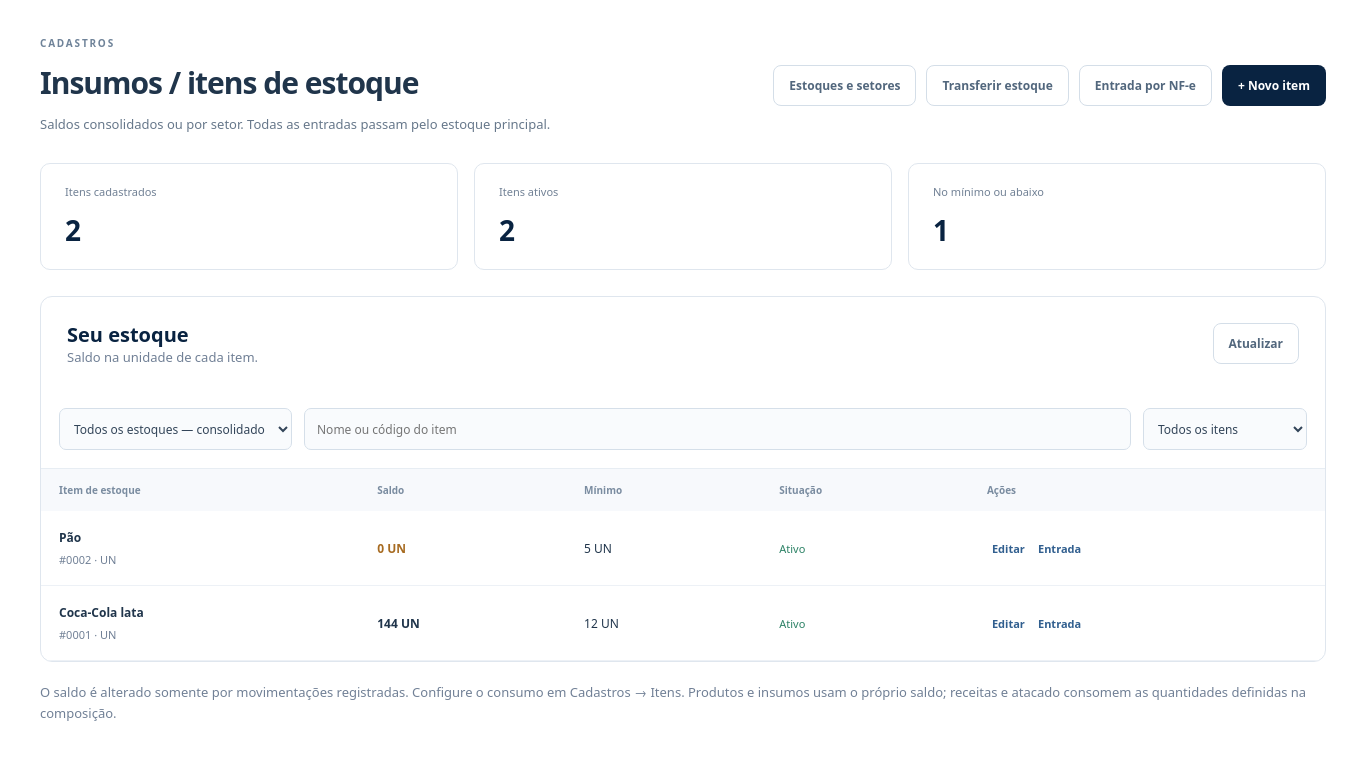
Test case: clears the insumo for a new registration while keeping the form open
Expected: the text "Coca-Cola lata" is shown, x1=59 y1=604 x2=144 y2=621
Click the button "+ Novo item" at (1274, 86), box x1=1222 y1=65 x2=1326 y2=106
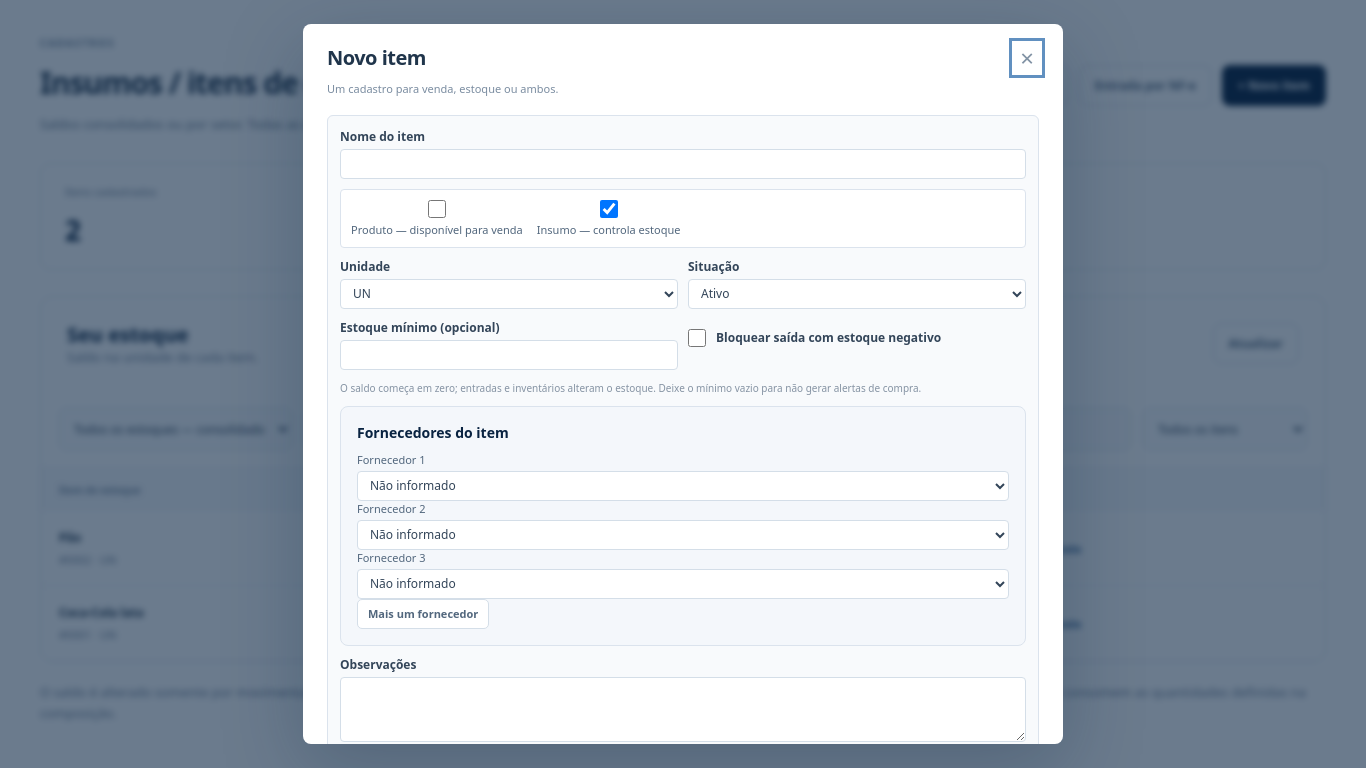
Type "Novo insumo" into the field labelled "Nome do item" at (683, 164), box x1=340 y1=149 x2=1026 y2=179
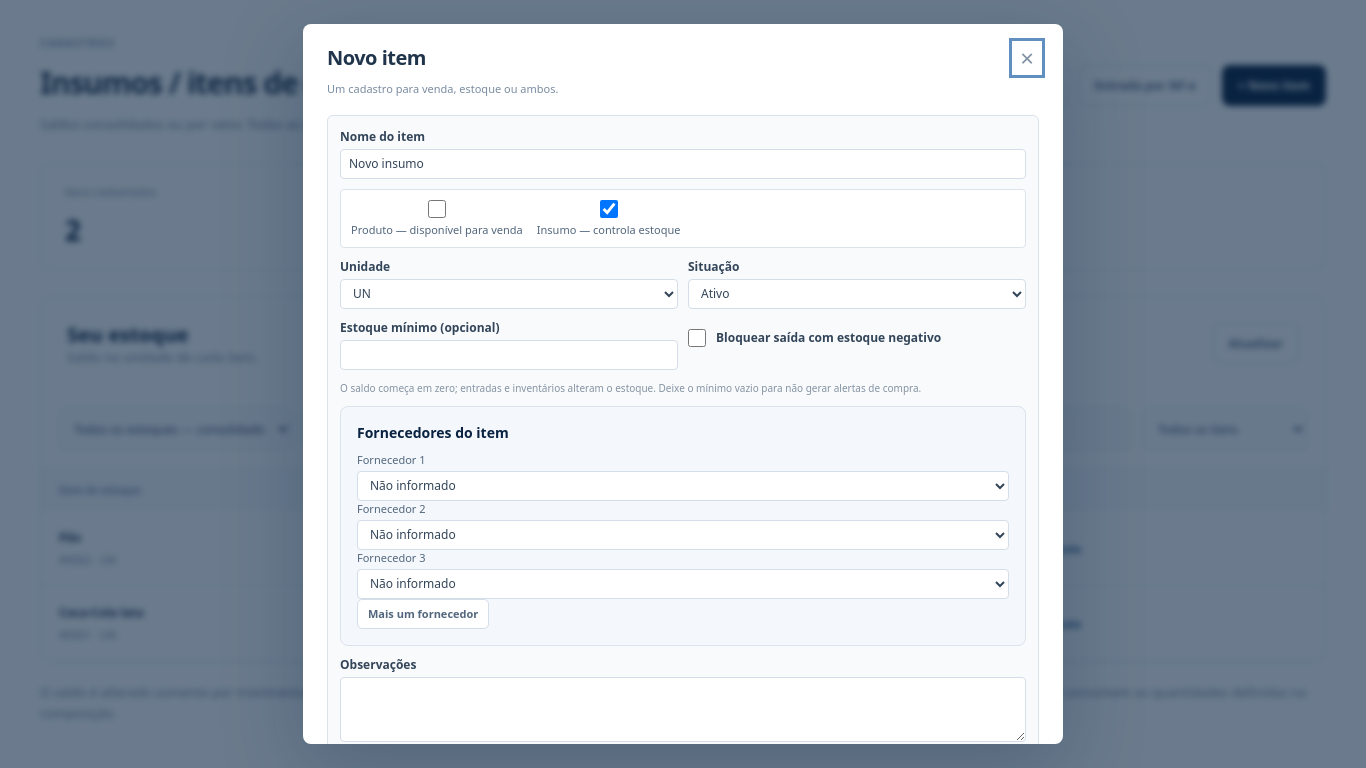
Type "10" into the number field labelled "Estoque mínimo (opcional)" at (509, 355), box x1=340 y1=340 x2=678 y2=370
(page scrolled)
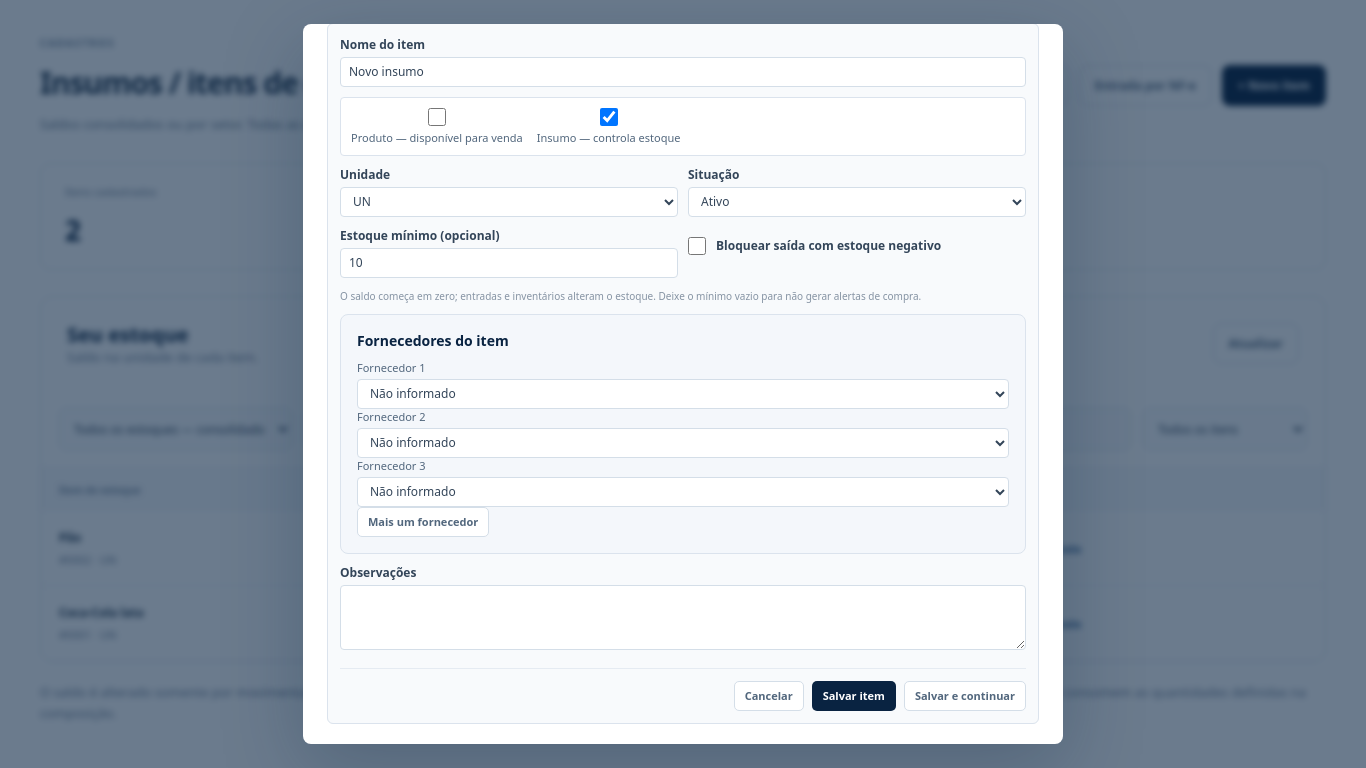
Click the button "Salvar e continuar" at (965, 696), box x1=904 y1=681 x2=1026 y2=711
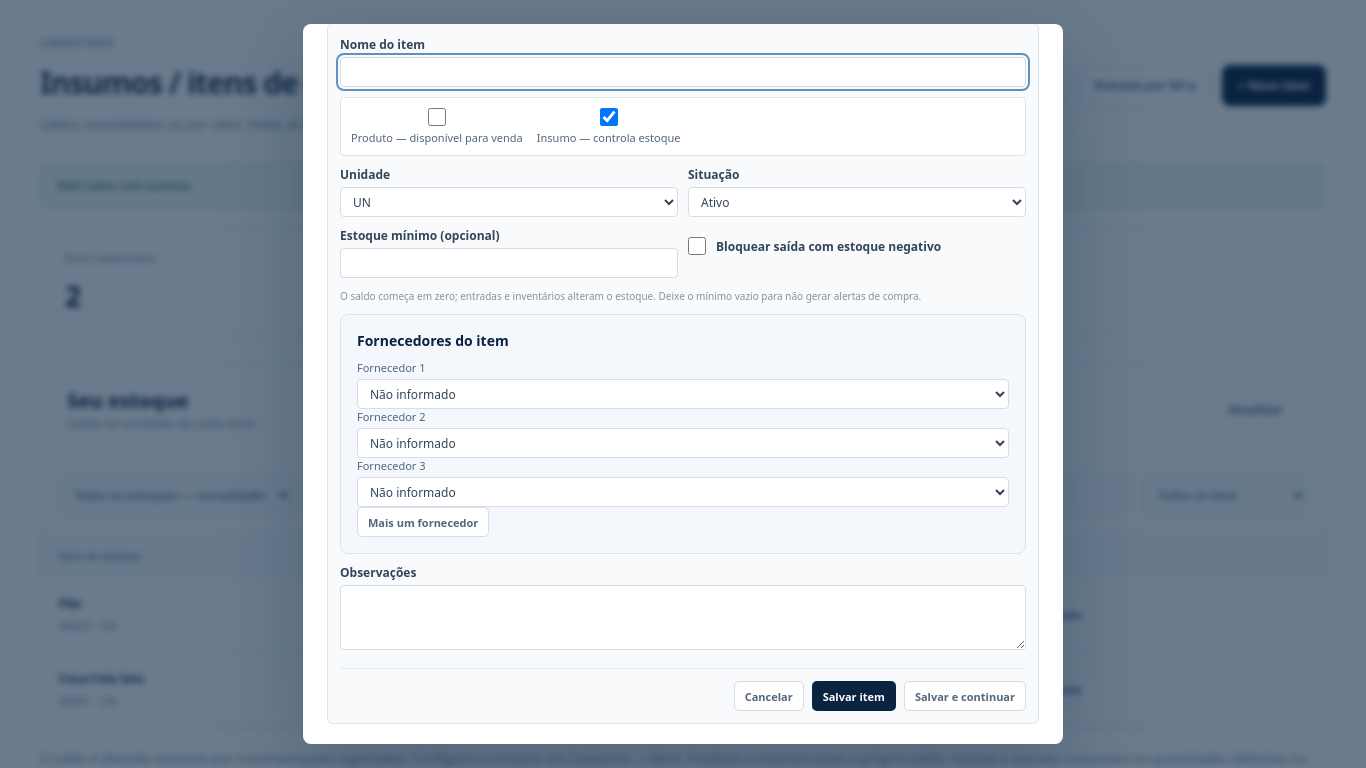
Expected: the dialog is shown, x1=303 y1=24 x2=1063 y2=744
Expected: the field labelled "Nome do item" is empty, x1=340 y1=57 x2=1026 y2=87
Expected: the number field labelled "Estoque mínimo (opcional)" is not empty, x1=340 y1=248 x2=678 y2=278
